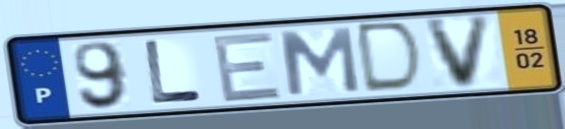9: (71, 40, 133, 112)
D: (356, 19, 428, 96)
E: (208, 29, 286, 105)
L: (141, 38, 206, 106)
M: (277, 25, 364, 98)
V: (421, 12, 497, 92)
